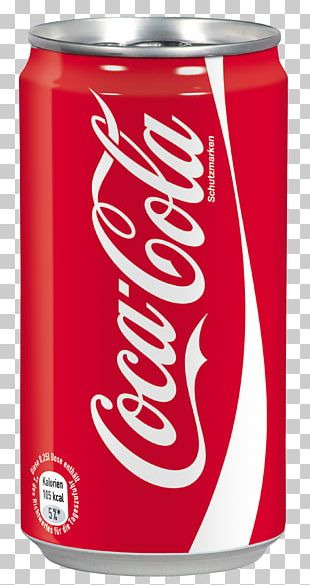coke: (17, 19, 288, 573)
